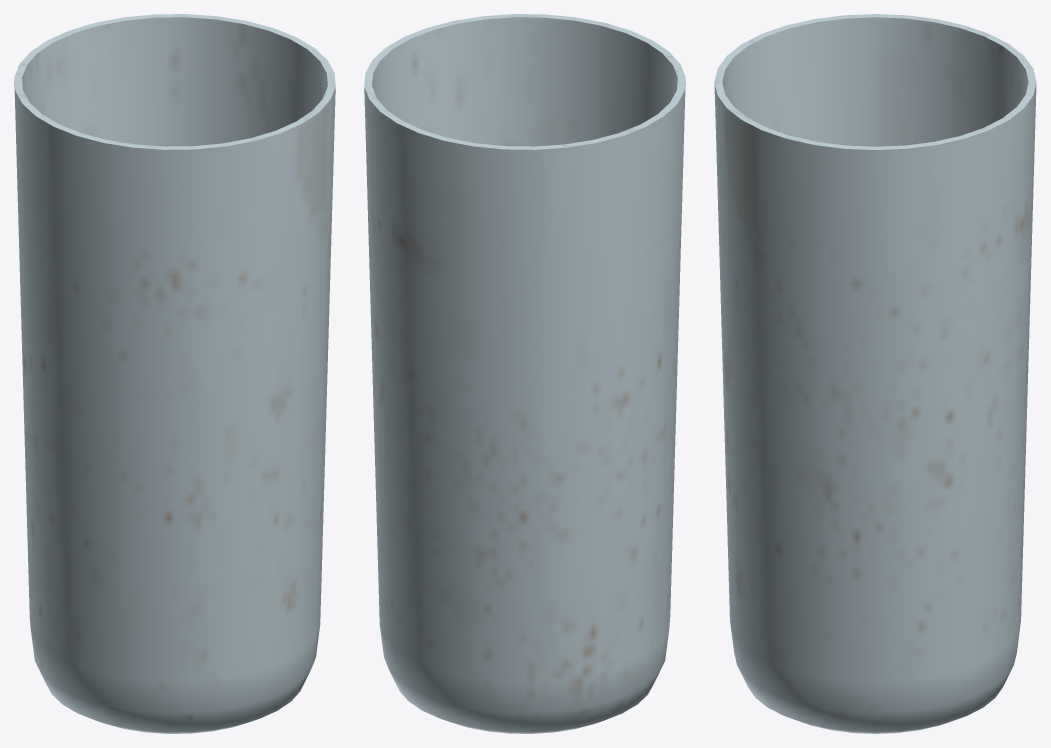
Rendered from Highball.fbx.
3 views of the same model, side by side, from view 1: azimuth 30°, elevation 25°; view 2: azimuth 150°, elevation 25°; view 3: azimuth 270°, elevation 25° (orthographic).
Visible parts, largest first — view 1: highball; view 2: highball; view 3: highball.
Boxes of the visible parts, box(x1,y1,x2,y2) form: highball: box(14, 14, 335, 733); highball: box(364, 14, 685, 733); highball: box(714, 14, 1036, 733).
Bounding box in the file's own units: 0.1938 × 0.4009 × 0.1938.
